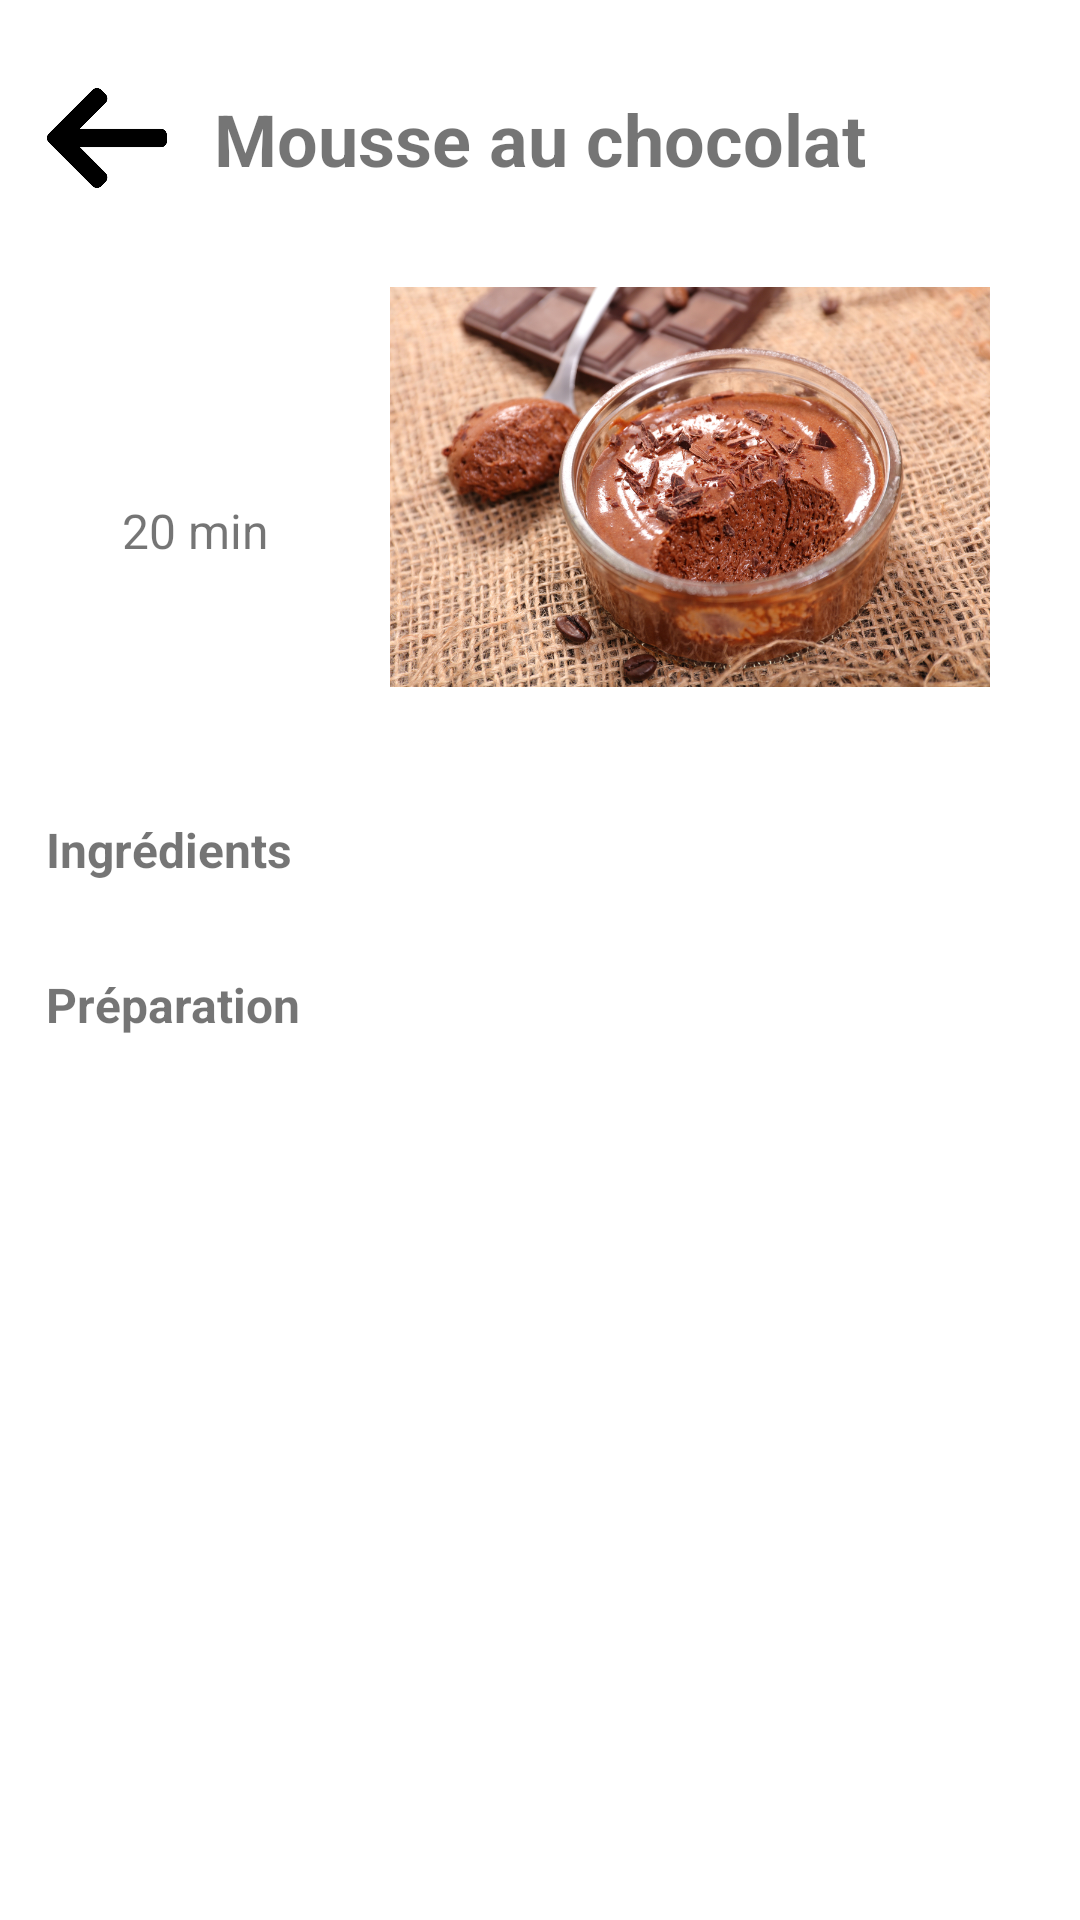

Named icons in this screenshot (1080x1920) and their bounding boxes, (x1, y1, x2, y2):
left arrow: (47, 88, 167, 188)
